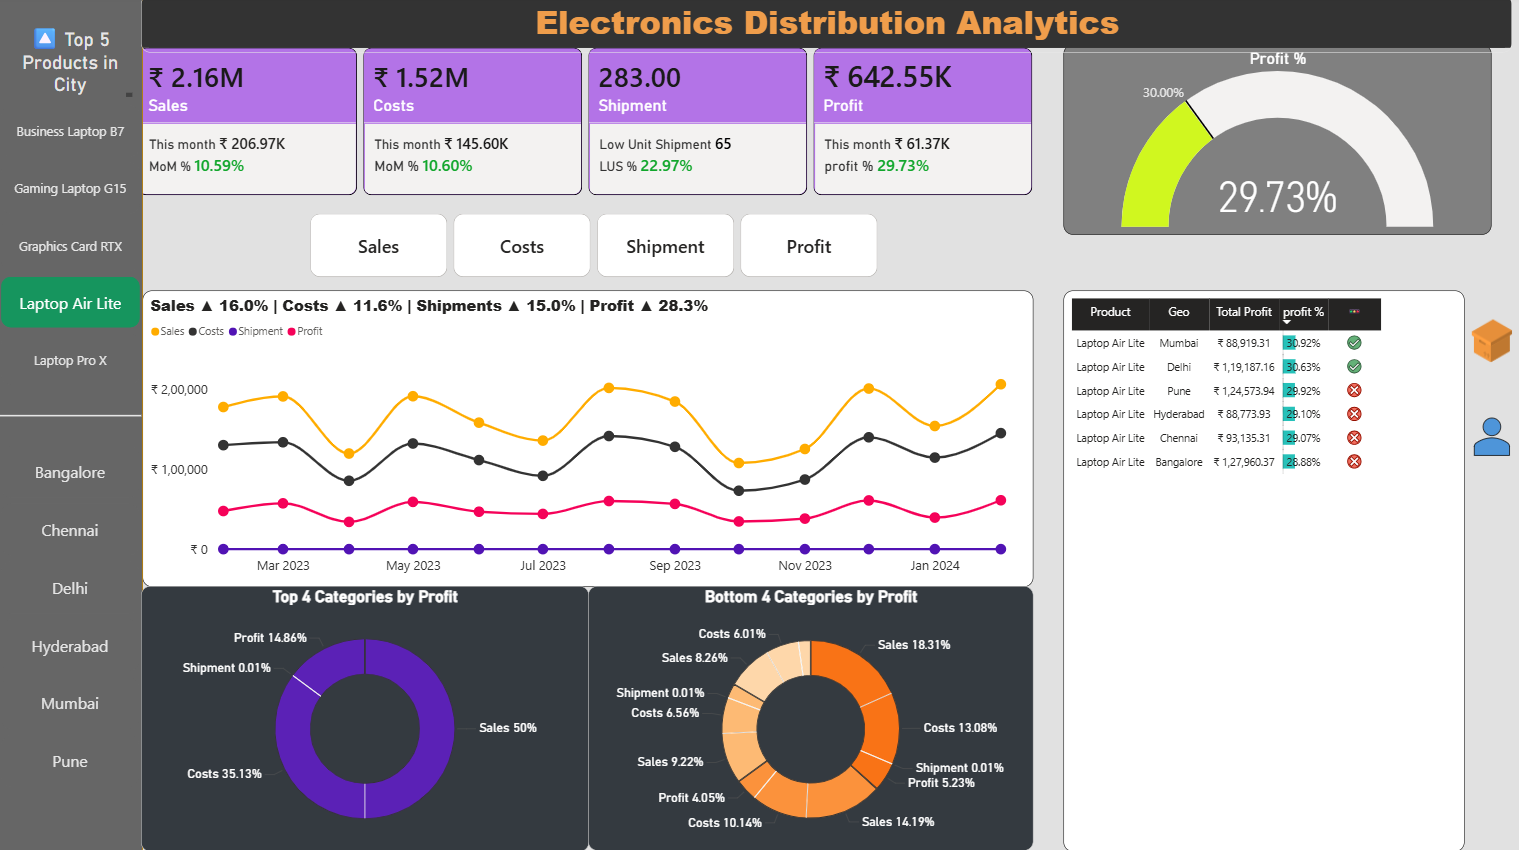

The dashboard page shown, as its layout file describes it:
{"tool":"powerbi","page":{"name":"Page 1","canvas":[1920,1080],"ordinal":0},"visuals":[{"type":"cardVisual","fields":{"Data":["_Measures.Total Sales","_Measures.Total Costs","_Measures.Total Shipment","_Measures.Total Profit"]},"box":[161.4,50,1162.9,220],"z":0},{"type":"lineChart","fields":{"Y":["_Measures.Total Sales"],"Category":["calendar.Start of Month.Variation.Date Hierarchy.Year","calendar.Start of Month.Variation.Date Hierarchy.Quarter","calendar.Start of Month.Variation.Date Hierarchy.Month","calendar.Start of Month.Variation.Date Hierarchy.Day"]},"box":[184,372,1124,374],"z":1000},{"type":"advancedSlicerVisual","fields":{"Values":["Measure selector.Measure selector"]},"box":[390,270,727.5,90],"z":2000},{"type":"shape","box":[0,0,184,1080],"z":3000},{"type":"gauge","title":"Profit %","fields":{"Y":["_Measures.profit %"]},"box":[1346,62,540,240],"z":4000},{"type":"advancedSlicerVisual","fields":{"Values":["locations.Geo"]},"box":[0,564,184,444],"z":5000},{"type":"advancedSlicerVisual","fields":{"Values":["products.Product"]},"box":[0,135,185,362.5],"z":6000},{"type":"shape","box":[0,498,182,66],"z":7000},{"type":"textbox","title":"🔼 Top 5 Products in City","box":[10,36,166,98],"z":8000},{"type":"textbox","title":"Electronics Distribution Analytics","box":[182.5,0,1730,72.5],"z":9000},{"type":"donutChart","title":"Top 4 Categories by Profit ","fields":{"Y":["_Measures.Total Sales"],"Category":["products.Category"]},"box":[182.5,745,565,335],"z":10000},{"type":"donutChart","title":"Bottom 4 Categories by Profit","fields":{"Y":["_Measures.Total Sales"],"Category":["products.Category"]},"box":[746,746,562,334],"z":11000},{"type":"tableEx","title":"Products table","fields":{"Values":["products.Product","locations.Geo","_Measures.Total Profit","_Measures.profit %","_Measures.Profit Target Indicator"]},"box":[1346,372,506,708],"z":12000},{"type":"image","title":"Products image","box":[1853.3,395,66.7,81.7],"z":14000},{"type":"image","title":"Sales image","box":[1853.3,516.7,66.7,81.7],"z":15000}]}

Visuals, with their boxes in screenshot pixels (x1, y1, x2, y2), scaled from the page's 1920x1080 canvas onto the 1519x850 screenshot:
cardVisual - _Measures.Total Sales x _Measures.Total Costs: box=[128, 39, 1048, 213]
lineChart - _Measures.Total Sales x calendar.Start of Month.Variation.Date Hierarchy.Year: box=[146, 293, 1035, 587]
advancedSlicerVisual - Measure selector.Measure selector: box=[309, 213, 884, 283]
shape: box=[0, 0, 146, 849]
"Profit %" gauge: box=[1065, 49, 1492, 238]
advancedSlicerVisual - locations.Geo: box=[0, 444, 146, 793]
advancedSlicerVisual - products.Product: box=[0, 106, 146, 392]
shape: box=[0, 392, 144, 444]
"🔼 Top 5 Products in City" textbox: box=[8, 28, 139, 105]
"Electronics Distribution Analytics" textbox: box=[144, 0, 1513, 57]
"Top 4 Categories by Profit " donutChart: box=[144, 586, 591, 849]
"Bottom 4 Categories by Profit" donutChart: box=[590, 587, 1035, 849]
"Products table" tableEx: box=[1065, 293, 1465, 849]
"Products image" image: box=[1466, 311, 1518, 375]
"Sales image" image: box=[1466, 407, 1518, 471]
